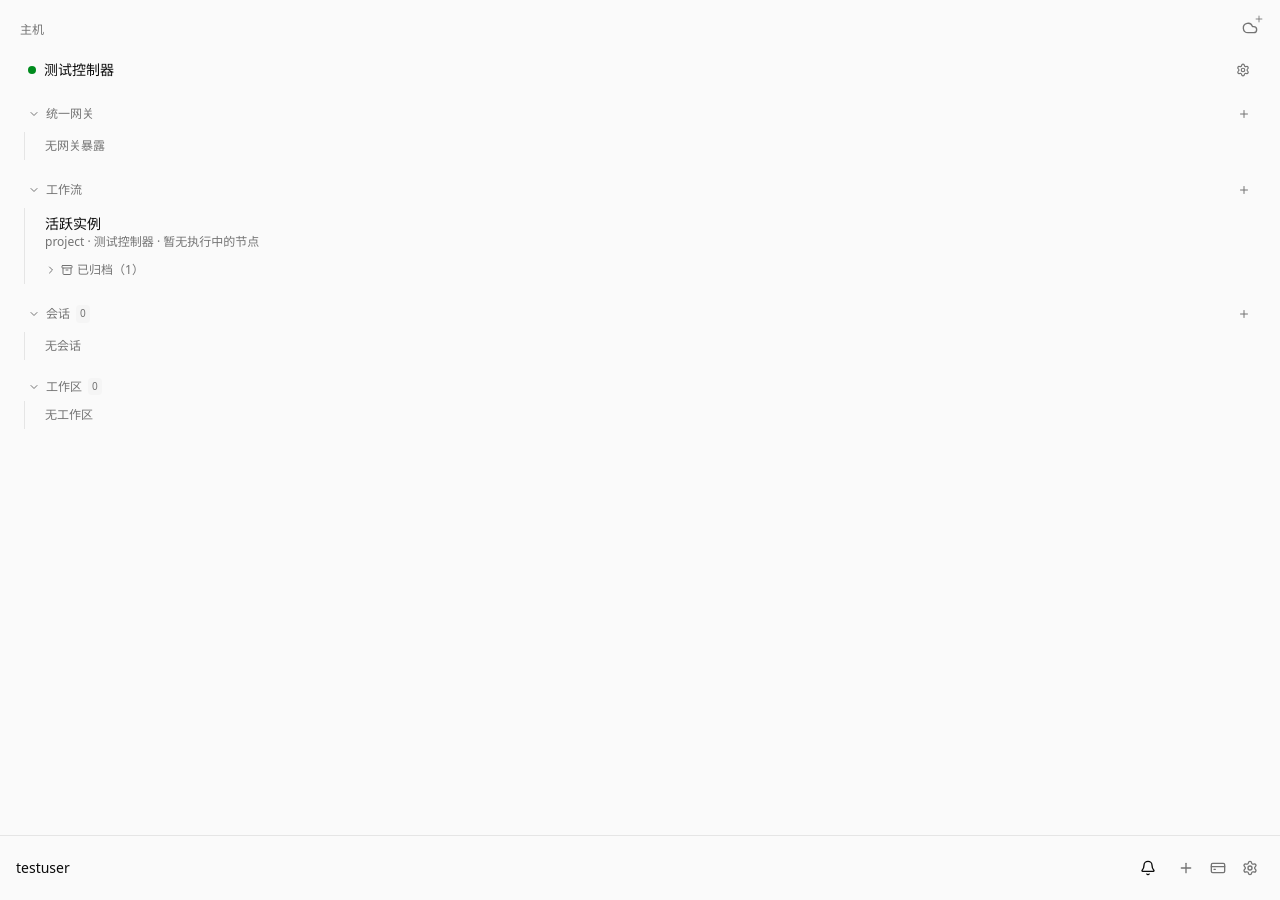
Sidebar 集成测试 › 已归档工作流实例折叠 › 默认收起，展开后归档实例名称可见
expect the text "已归档实例" is not shown: met
expect the text "活跃实例" is shown: met, box [45,214,101,233]
Click the button "已归档（1）" at [94, 270], box [33,256,156,284]
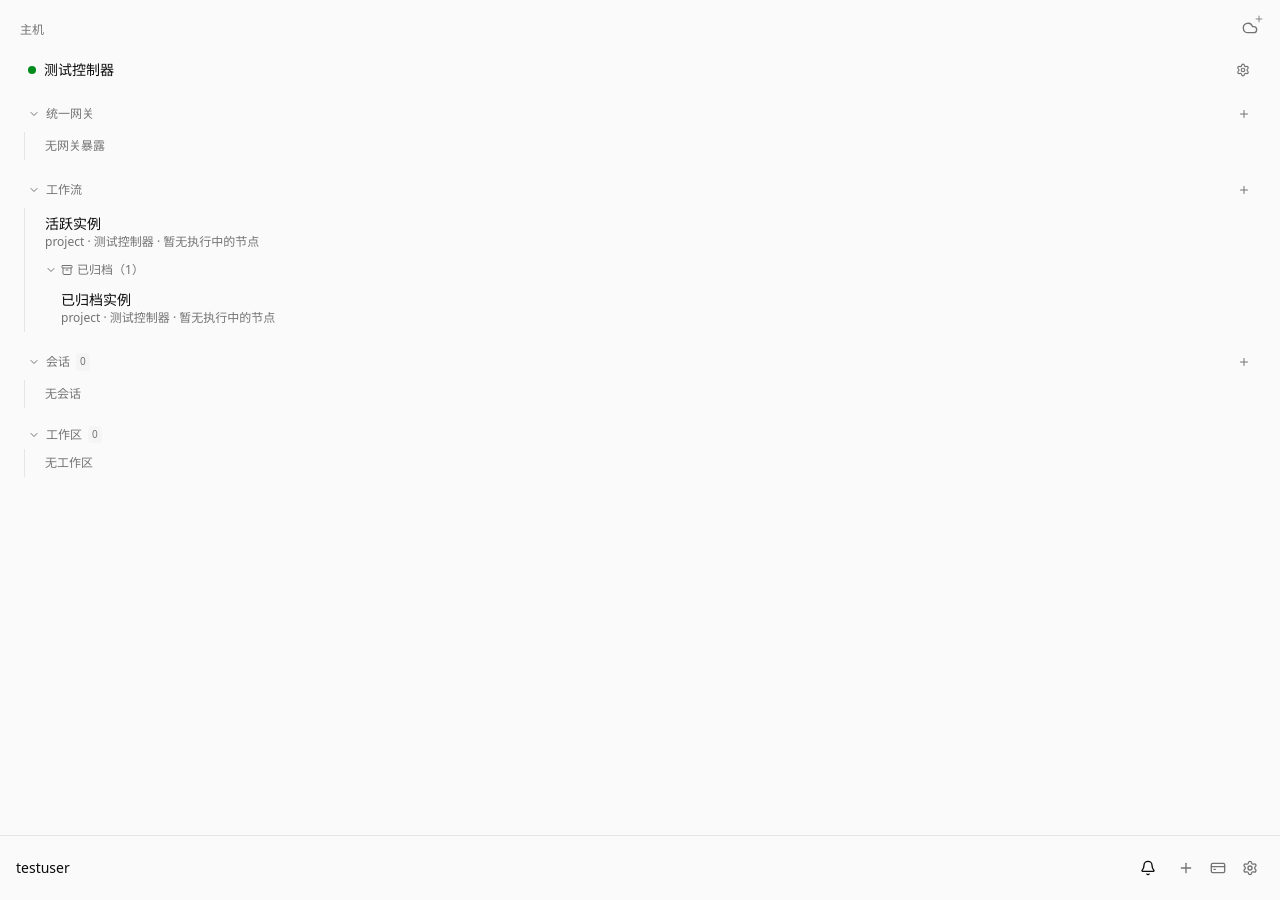
expect the text "已归档实例" is shown: met, box [61,290,131,309]
